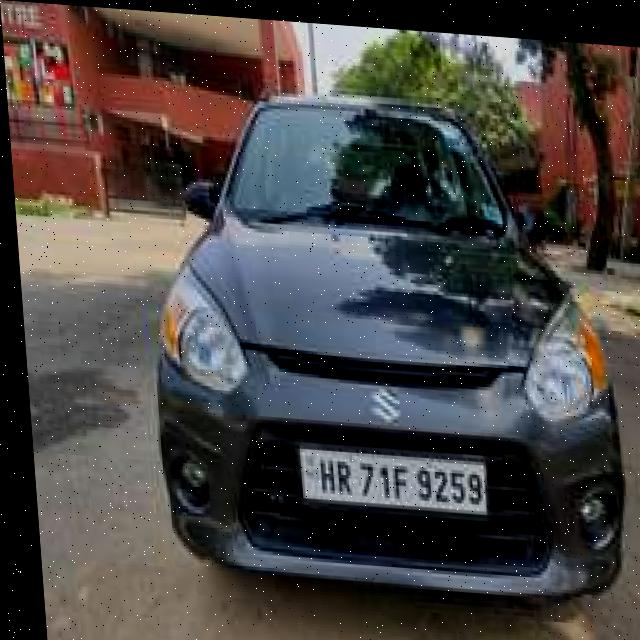plate: (288, 439, 484, 516)
